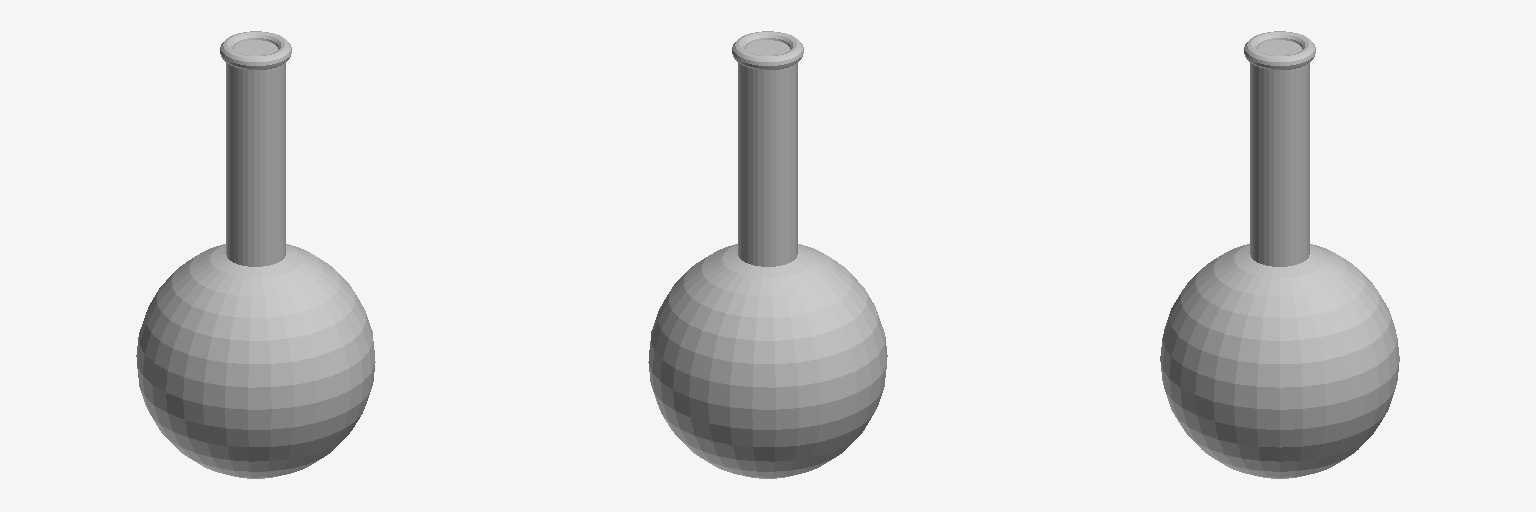
File: potion.obj
3 views of the same model, side by side, from view 1: azimuth 30°, elevation 25°; view 2: azimuth 150°, elevation 25°; view 3: azimuth 270°, elevation 25° (orthographic).
Parts seen in each view (by area): view 1: Sphere, Cylinder, Cylinder.001, Torus; view 2: Sphere, Cylinder, Cylinder.001, Torus; view 3: Sphere, Cylinder, Cylinder.001, Torus.
Part boxes in pixels (bbox=[...]): Sphere: bbox=[136, 244, 375, 478]; Cylinder: bbox=[226, 40, 285, 186]; Cylinder.001: bbox=[226, 175, 285, 266]; Torus: bbox=[220, 31, 291, 69]; Sphere: bbox=[648, 244, 887, 478]; Cylinder: bbox=[738, 40, 797, 186]; Cylinder.001: bbox=[738, 175, 797, 266]; Torus: bbox=[732, 31, 803, 69]; Sphere: bbox=[1160, 244, 1399, 478]; Cylinder: bbox=[1250, 40, 1309, 186]; Cylinder.001: bbox=[1250, 174, 1309, 266]; Torus: bbox=[1244, 31, 1315, 69].
Size of the model in its own units: 2 by 3.9 by 2.